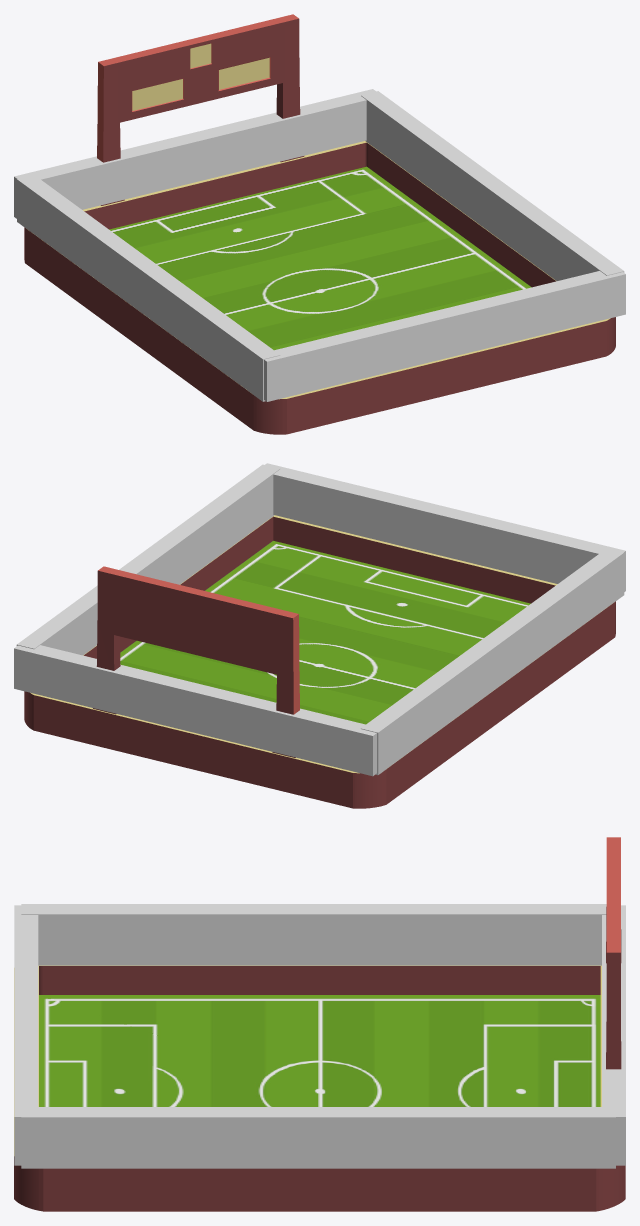
File: Playground_2.fbx
3 renders of one model, top to bottom at view 1: azimuth 30°, elevation 25°; view 2: azimuth 150°, elevation 25°; view 3: azimuth 270°, elevation 25°, orthographic. The views are drawn at different scales.
Parts seen in each view (by area): view 1: playground, Cube.001, Cube; view 2: playground, Cube.001, Cube; view 3: playground, Cube, Cube.001.
Boxes of the visible parts, x1,y1,x2,y2 form: playground: (24,14,615,434); Cube.001: (14,89,625,401); Cube: (17,91,624,401); playground: (24,515,615,808); Cube.001: (14,463,625,776); Cube: (16,464,624,775); playground: (14,837,625,1211); Cube: (21,904,615,1168); Cube.001: (14,905,625,1165).
Bounding box in the file's own units: 982 × 451 × 1191.
